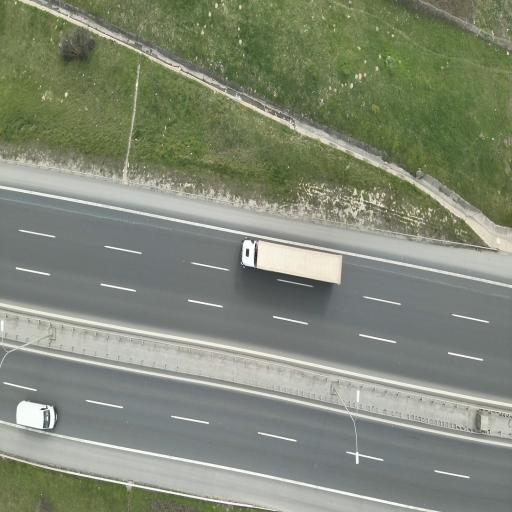truck: (242, 239, 342, 284), (16, 401, 56, 429)
